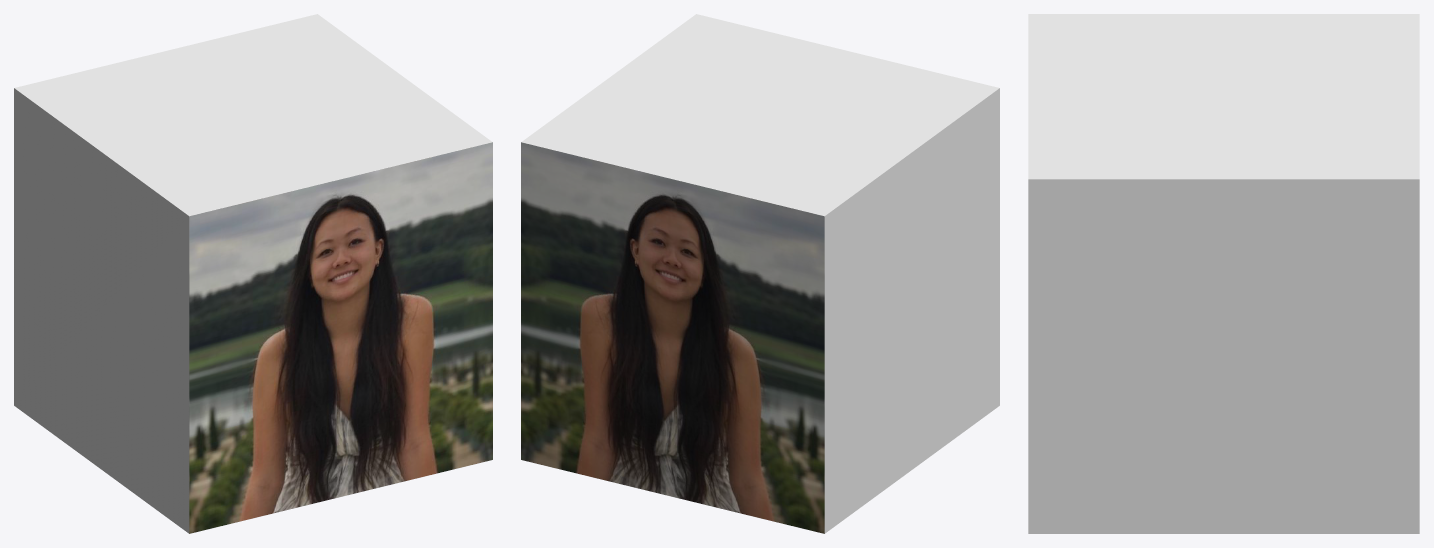
The model's file is angie.dae.
3 views of the same model, side by side, from view 1: azimuth 30°, elevation 25°; view 2: azimuth 150°, elevation 25°; view 3: azimuth 270°, elevation 25° (orthographic). The views are drawn at different scales.
Visible parts, largest first — view 1: Background; view 2: Background; view 3: Background.
Boxes of the visible parts, x1=… form: Background: x1=14, y1=14, x2=492, y2=533; Background: x1=521, y1=14, x2=999, y2=533; Background: x1=1028, y1=14, x2=1419, y2=533.
Bounding box in the file's own units: 6.39 × 6.39 × 6.39.
Materials: 3 (3 with a texture image).
